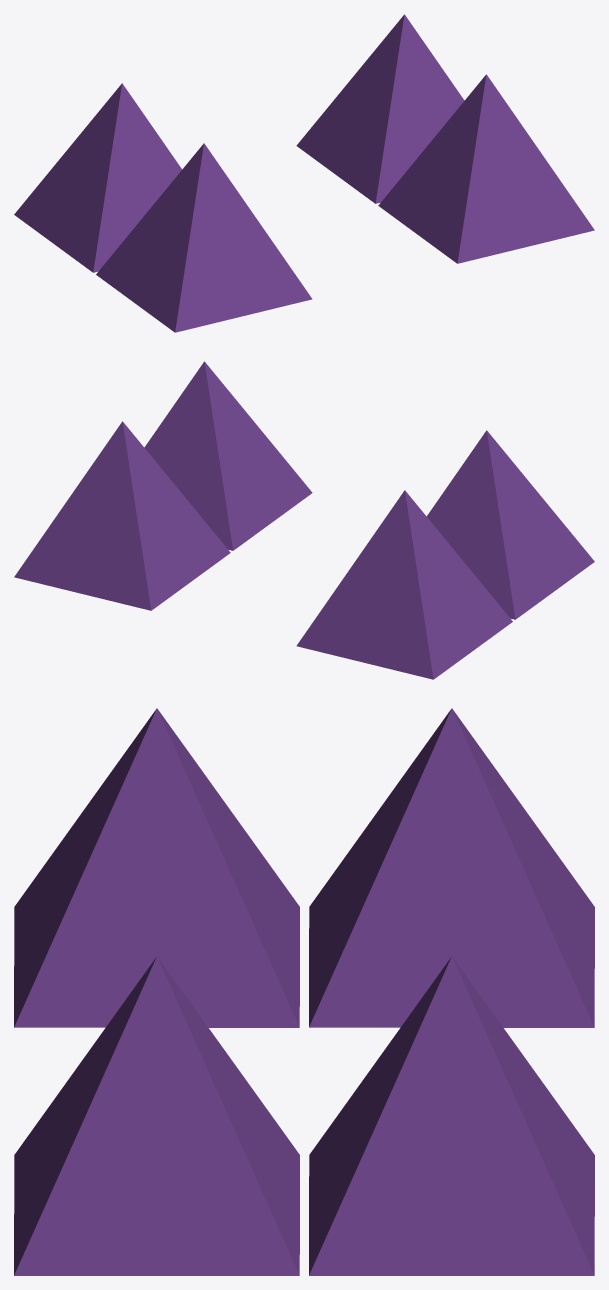
File: Level1-3_BreakablePyramids.fbx
The picture shows the model from 3 angles, top to bottom: view 1: azimuth 30°, elevation 25°; view 2: azimuth 150°, elevation 25°; view 3: azimuth 270°, elevation 25°; orthographic projection. The views are drawn at different scales.
Visible parts, largest first — view 1: Cube.015, Cube.025, Cube.020, Cube.030; view 2: Cube.030, Cube.020, Cube.025, Cube.015; view 3: Cube.015, Cube.020, Cube.030, Cube.025.
Part boxes in pixels (x1=…): Cube.015: x1=378, y1=74, x2=594, y2=263; Cube.025: x1=96, y1=143, x2=312, y2=332; Cube.020: x1=296, y1=14, x2=464, y2=203; Cube.030: x1=14, y1=83, x2=181, y2=272; Cube.030: x1=296, y1=490, x2=512, y2=679; Cube.020: x1=14, y1=421, x2=230, y2=610; Cube.025: x1=427, y1=430, x2=594, y2=619; Cube.015: x1=144, y1=361, x2=312, y2=550; Cube.015: x1=14, y1=956, x2=299, y2=1275; Cube.020: x1=309, y1=956, x2=594, y2=1275; Cube.030: x1=309, y1=708, x2=594, y2=1027; Cube.025: x1=14, y1=708, x2=299, y2=1027.
Bounding box in the file's own units: 796 × 261 × 530.
